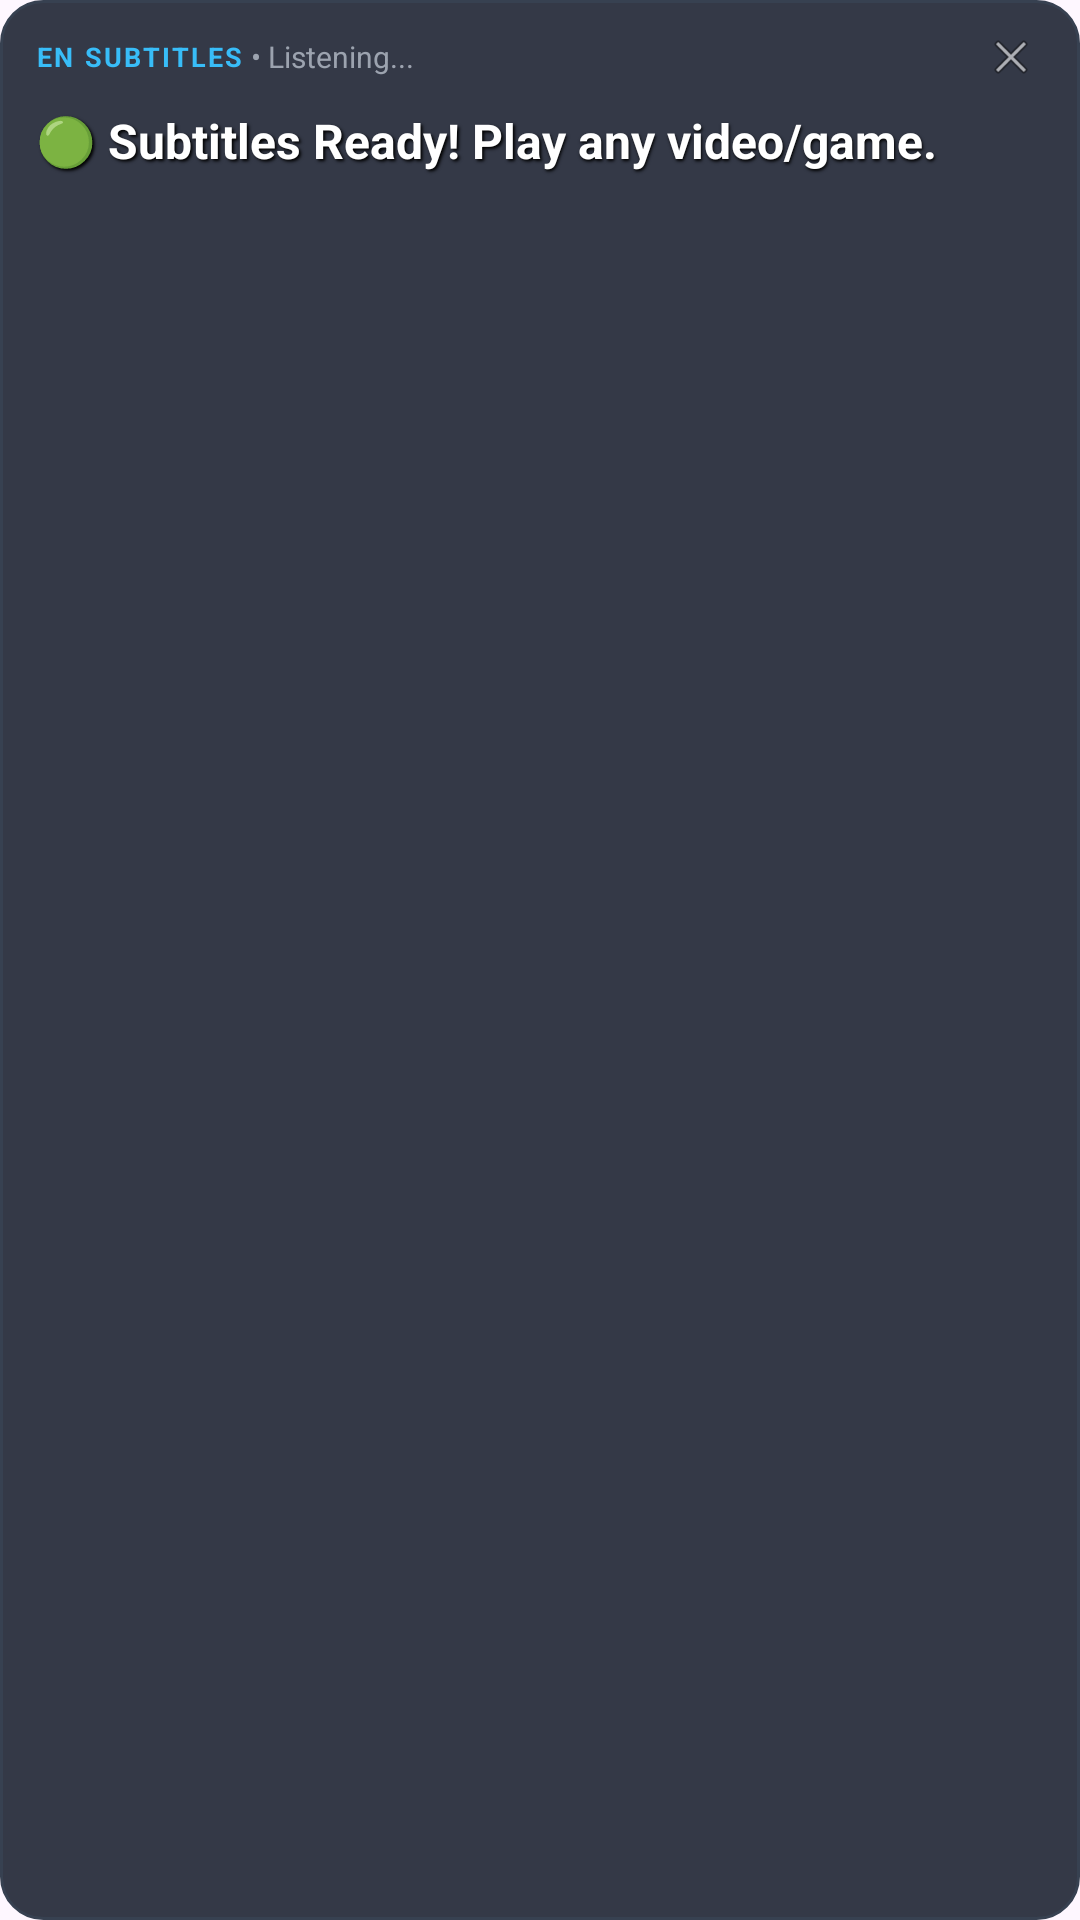

Icon click points for this 1080px x 1920px phone screenshot, format [x,y]:
Close Subtitles: [1011,57]
